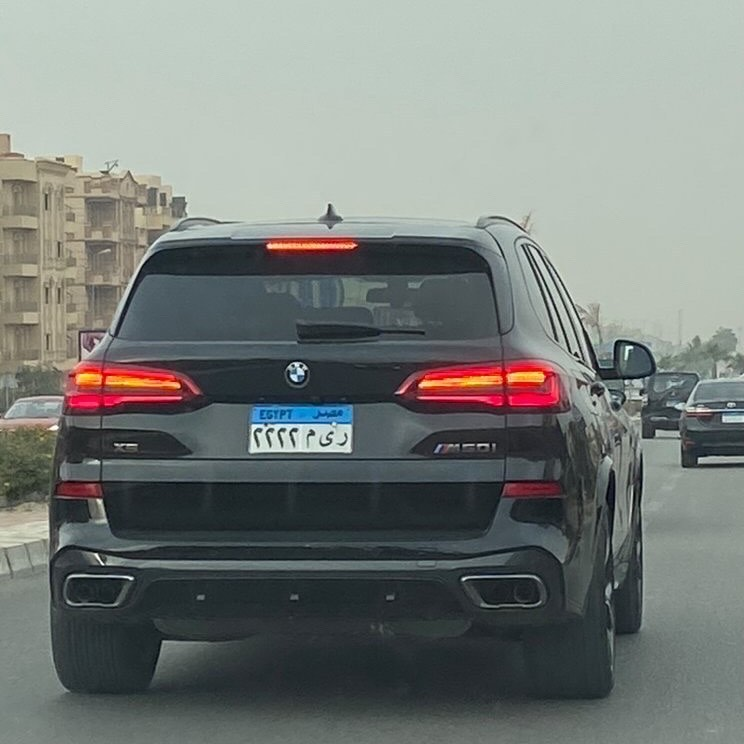carpl: (240, 398, 360, 458)
